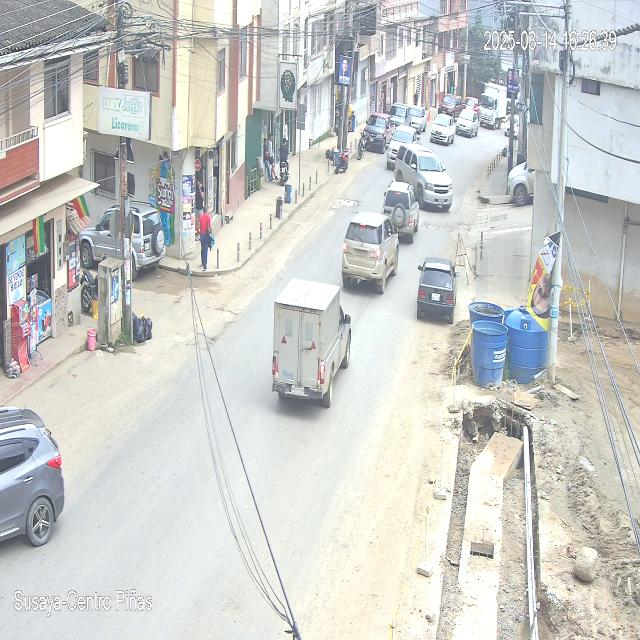CMT: (272, 278, 352, 412)
SED: (416, 256, 456, 326)
SUV: (342, 210, 399, 294), (394, 144, 453, 213)
